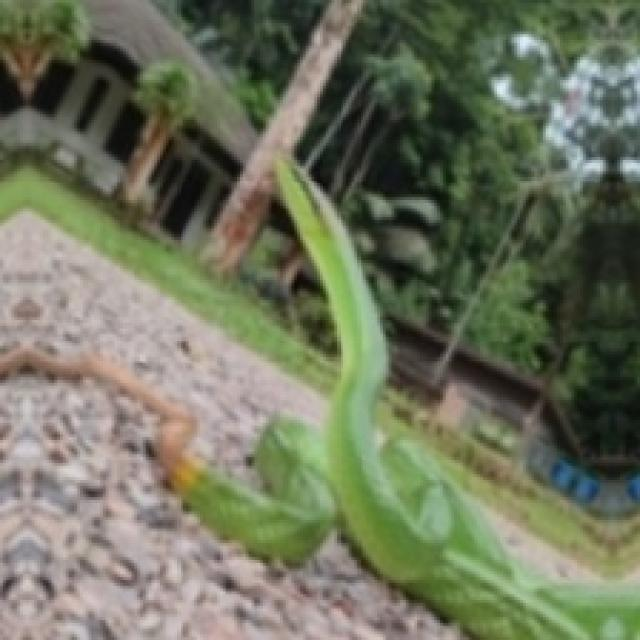red-tailed green ratsnake: (0, 158, 640, 640)
